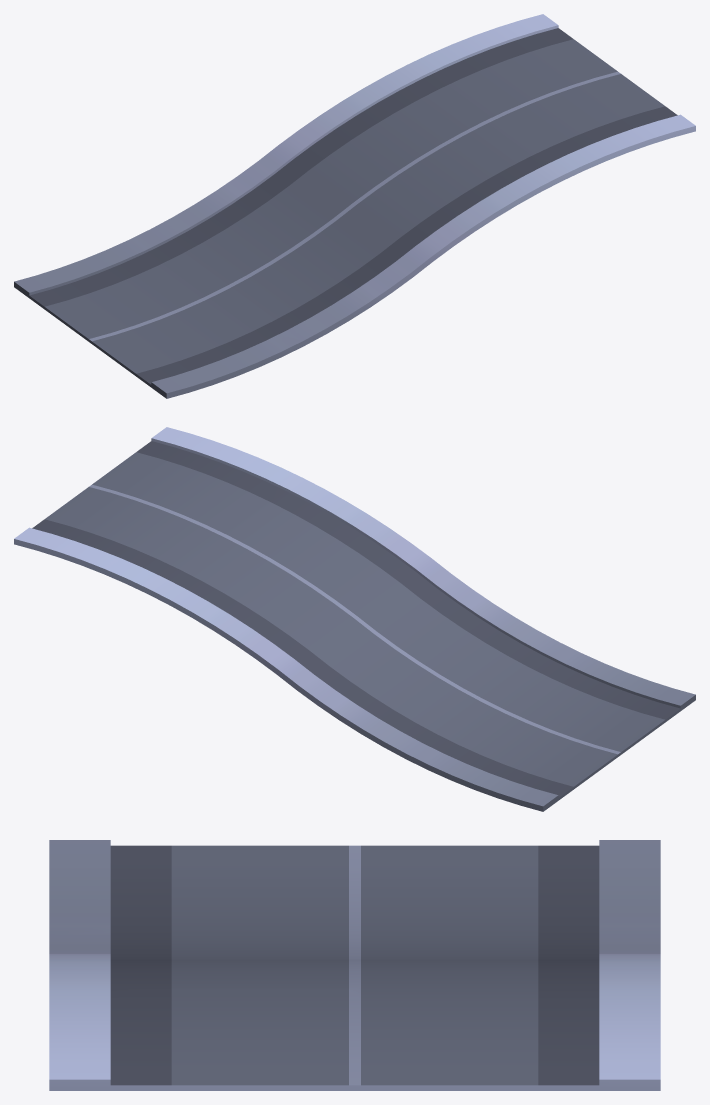
File: road-slant-flat-curve.glb
The picture shows the model from 3 angles, top to bottom: view 1: azimuth 30°, elevation 25°; view 2: azimuth 150°, elevation 25°; view 3: azimuth 270°, elevation 25°; orthographic projection. The views are drawn at different scales.
Parts seen in each view (by area): view 1: road-slant-flat-curve; view 2: road-slant-flat-curve; view 3: road-slant-flat-curve.
Part boxes in pixels (bbox=[...]): road-slant-flat-curve: bbox=[14, 14, 695, 398]; road-slant-flat-curve: bbox=[14, 427, 695, 811]; road-slant-flat-curve: bbox=[49, 840, 660, 1090].
Bounding box in the file's own units: 2 × 0.5201 × 0.9998.
Materials: 1 (1 with a texture image).
